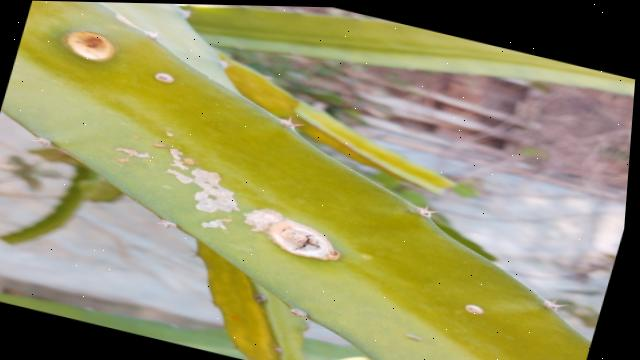stemcanker: (111, 107, 257, 252), (57, 24, 124, 66), (148, 66, 181, 90), (459, 300, 489, 321)
